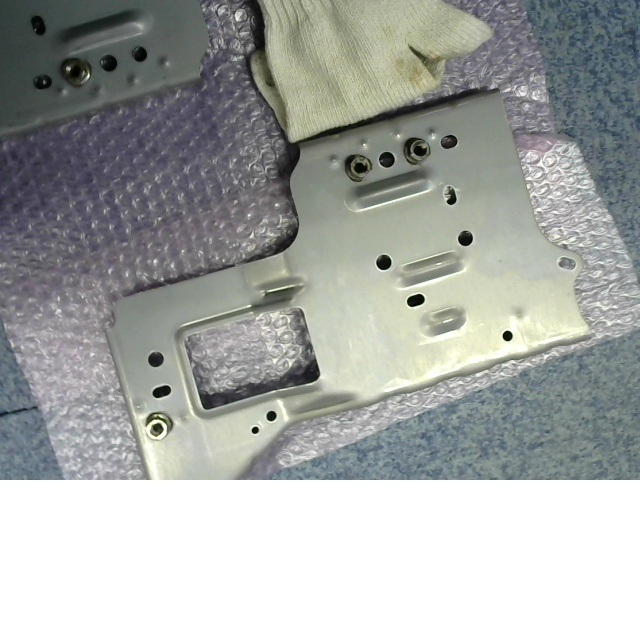dog: (59, 58, 91, 89), (143, 413, 173, 442), (402, 137, 431, 166), (345, 154, 372, 182)
